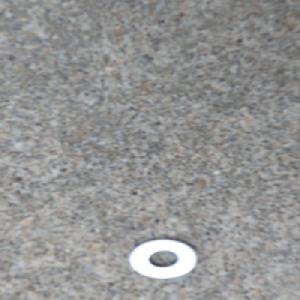Washer: (126, 238, 199, 279)
